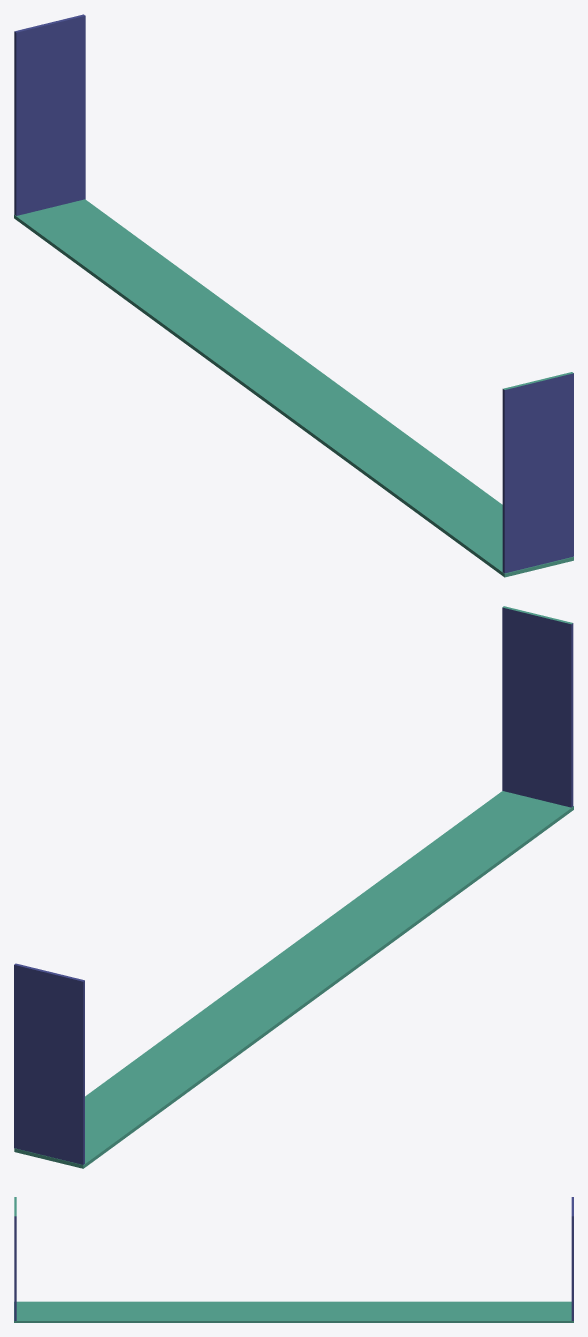
Rendered from 46m-rule.dae.
3 views of the same model, one above another, from view 1: azimuth 30°, elevation 25°; view 2: azimuth 150°, elevation 25°; view 3: azimuth 270°, elevation 25° (orthographic). The views are drawn at different scales.
Parts seen in each view (by area): view 1: Plane_002_003_001; view 2: Plane_002_003_001; view 3: Plane_002_003_001.
Part boxes in pixels (x1,y1,x2,y2): Plane_002_003_001: (14,14,573,577); Plane_002_003_001: (14,606,573,1168); Plane_002_003_001: (14,1197,573,1322).
Size of the model in its own units: 2.01 by 24.53 by 5.16.
